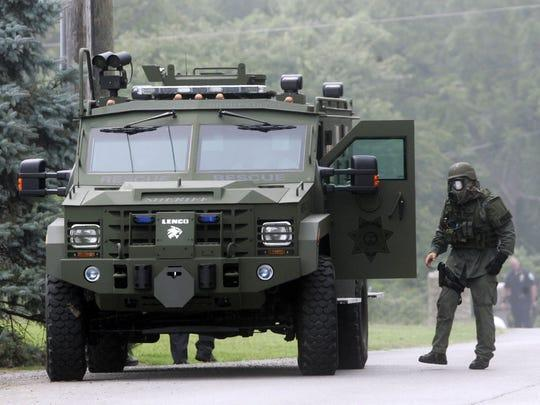armored_car: (17, 47, 416, 383)
person: (410, 160, 516, 368)
